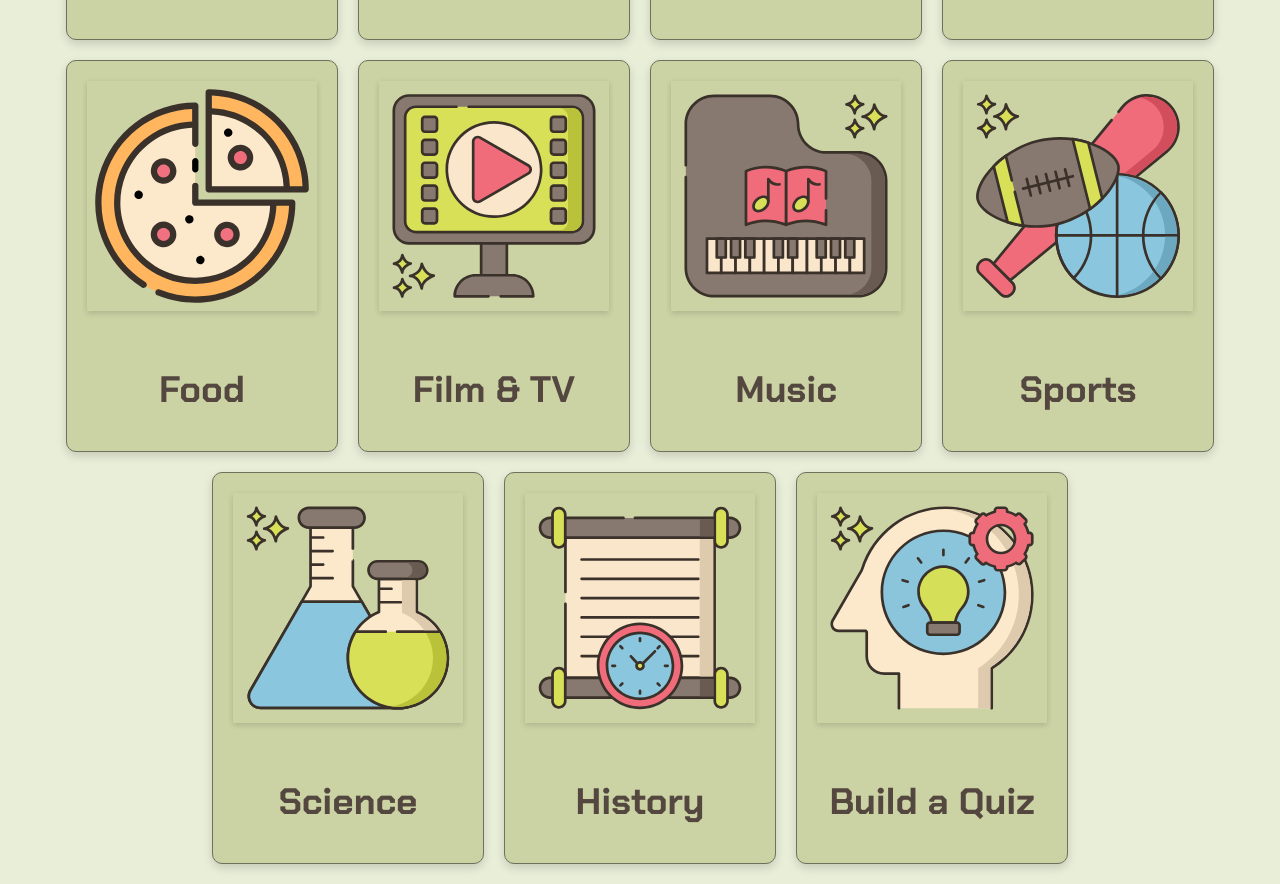
Scenario: QuizCategory › custom quiz shows error if fields missing
The width and height of the screenshot is (1280, 884).
(page scrolled)
Step 1. Click the picture with alt text "A head with a glowing light bulb and gear, representing the Custom category" → point(932, 608), box 817,493 -> 1047,723
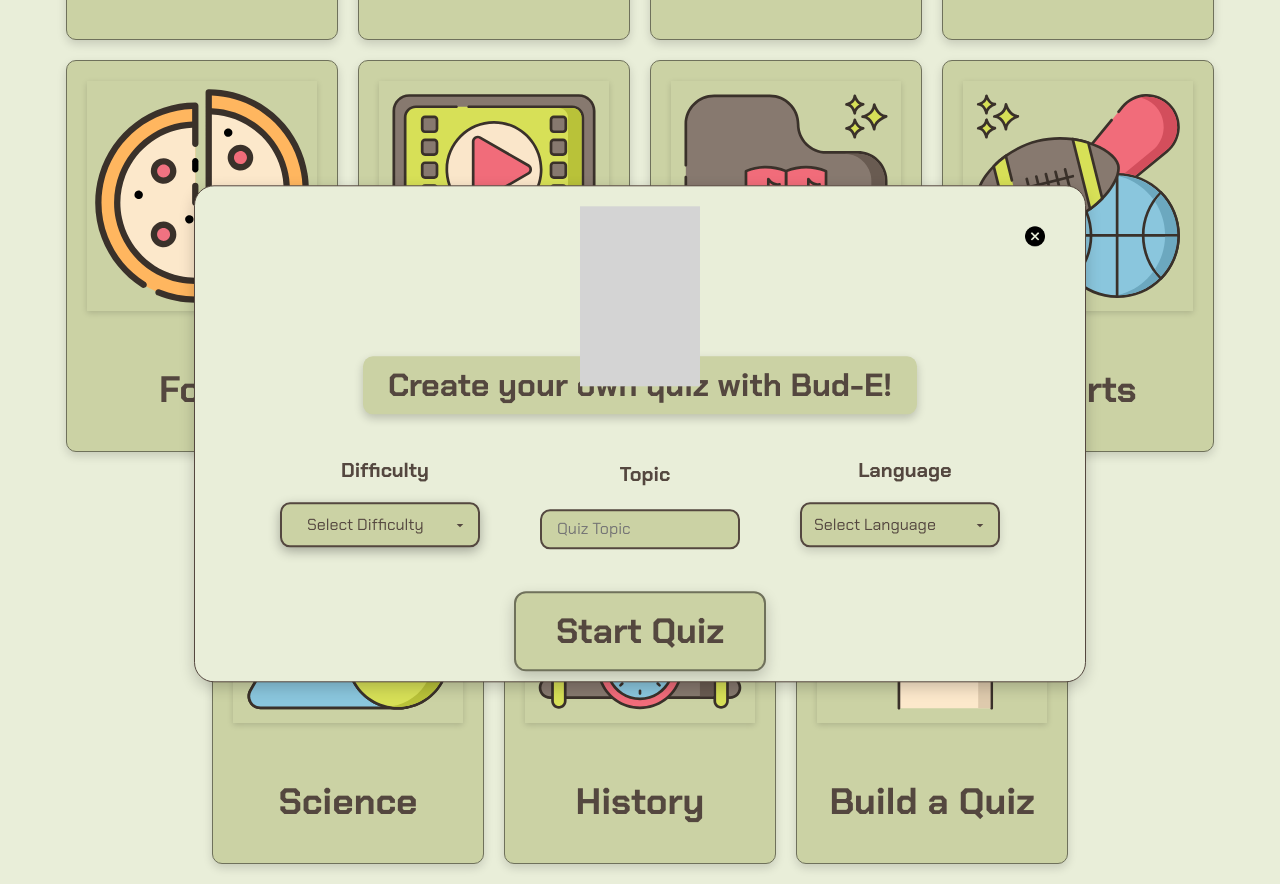
Step 2. Click the button "Start Quiz" → point(640, 632), box 514,592 -> 766,672
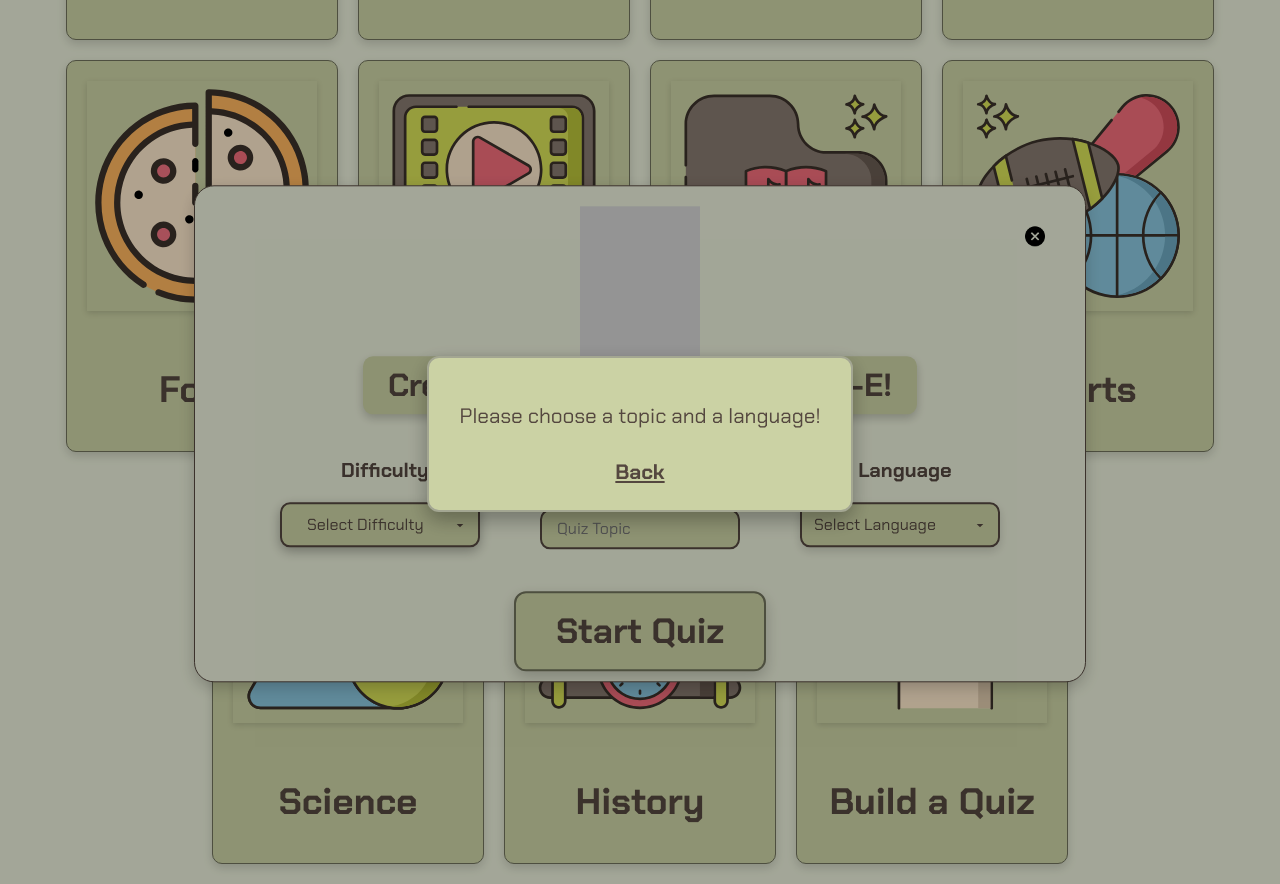
Check: the text "Please choose a topic and a language!" is shown, box 460,404 -> 821,429
